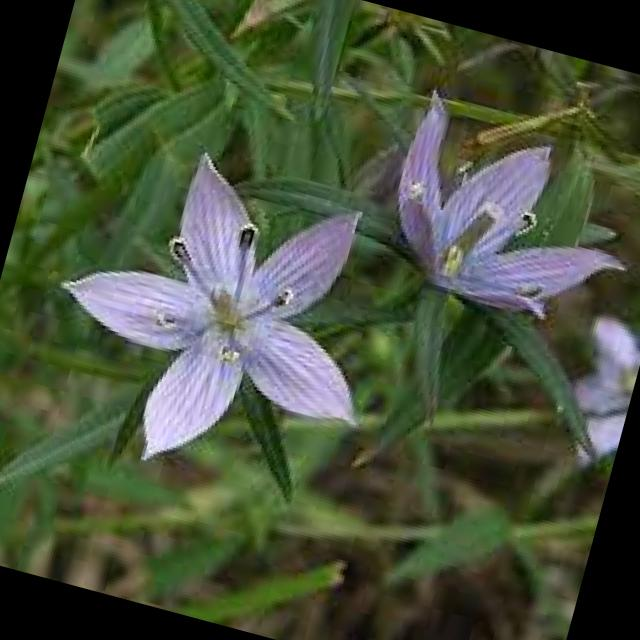Chirata: (0, 0, 640, 640), (43, 133, 380, 455), (335, 57, 640, 365)
